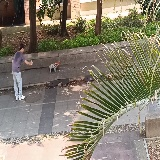fire: (55, 61, 59, 65)
